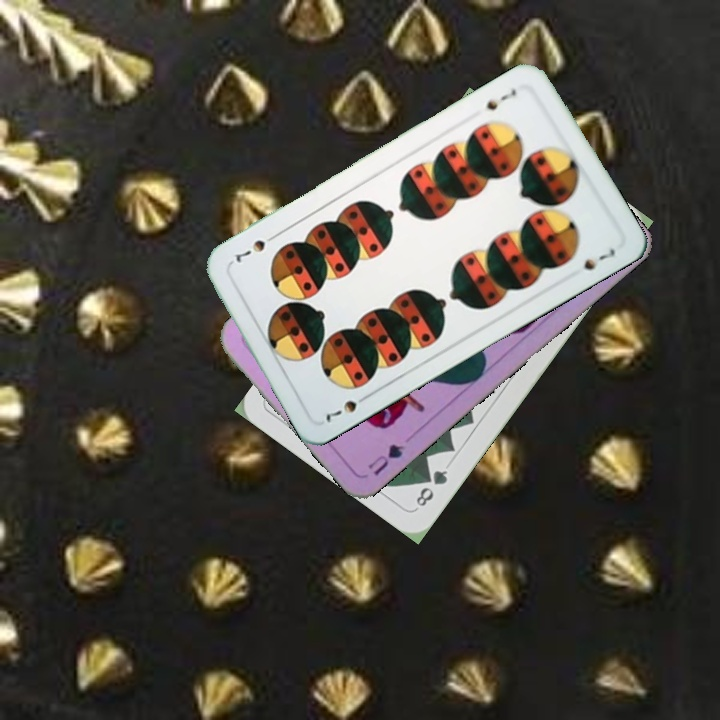G8: (411, 466, 451, 510)
GU: (363, 440, 408, 478)
S7: (321, 389, 373, 426), (482, 84, 519, 113)
